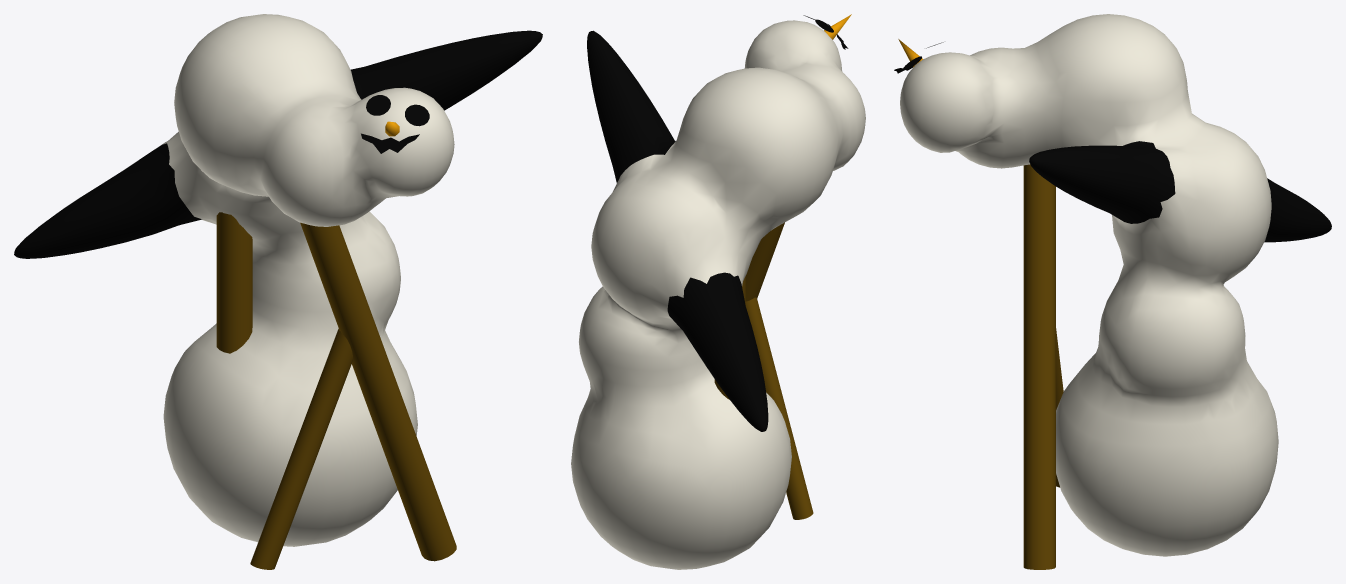
The model's file is Snowmamn.fbx.
3 renders of one model, left to right at view 1: azimuth 30°, elevation 25°; view 2: azimuth 150°, elevation 25°; view 3: azimuth 270°, elevation 25°, orthographic. The views are drawn at different scales.
Visible parts, largest first — view 1: polySurface16; view 2: polySurface16; view 3: polySurface16.
Boxes of the visible parts, box(x1,y1,x2,y2) form: polySurface16: box(14, 14, 542, 569); polySurface16: box(571, 14, 865, 569); polySurface16: box(894, 14, 1331, 569).
Size of the model in its own units: 2.24 by 3.2 by 2.55.
